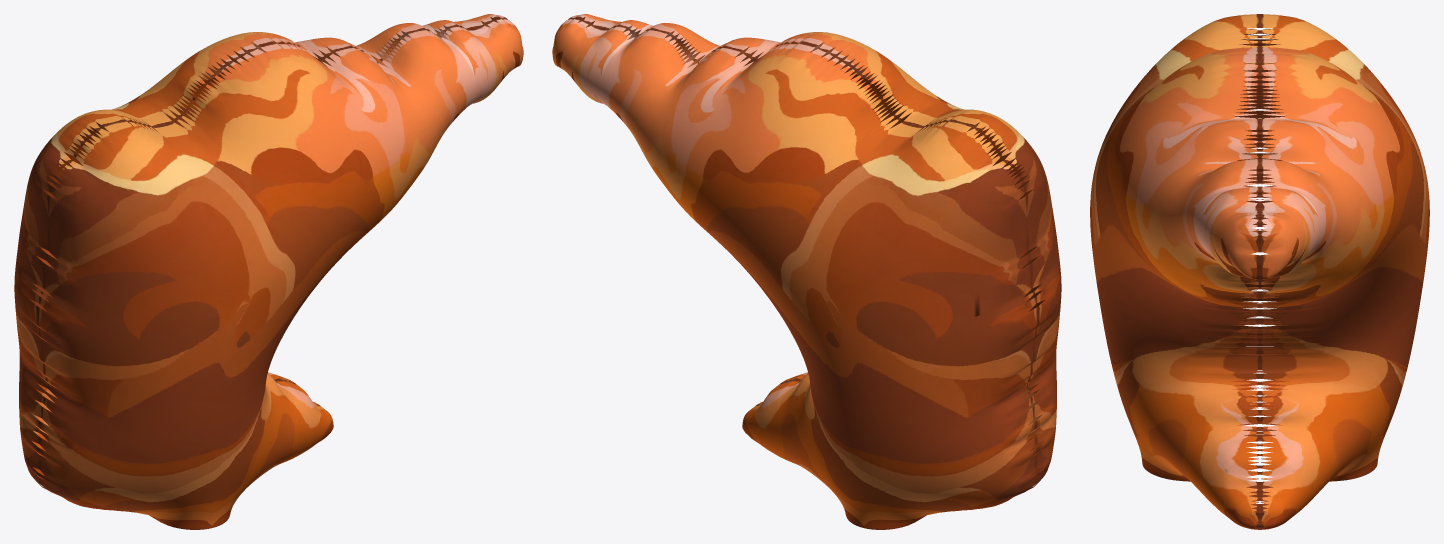
The model's file is west_cliff.glb.
3 views of the same model, side by side, from view 1: azimuth 30°, elevation 25°; view 2: azimuth 150°, elevation 25°; view 3: azimuth 270°, elevation 25° (orthographic). The views are drawn at different scales.
Parts seen in each view (by area): view 1: west_cliff; view 2: west_cliff; view 3: west_cliff.
Boxes of the visible parts, bbox=[...] form: west_cliff: bbox=[14, 14, 523, 529]; west_cliff: bbox=[552, 14, 1061, 529]; west_cliff: bbox=[1090, 14, 1429, 529].
Bounding box in the file's own units: 0.989 × 0.8262 × 0.548.
1 material, 1 textured.
